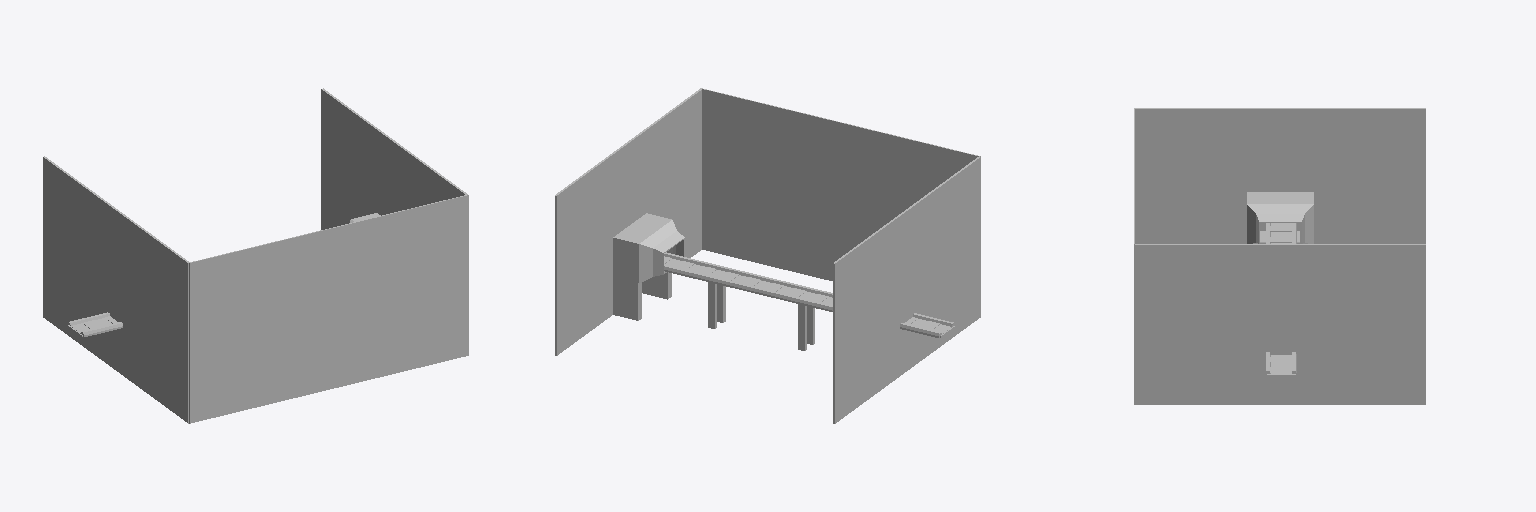
Rendered from conveyorRoom.obj.
3 renders of one model, left to right at view 1: azimuth 30°, elevation 25°; view 2: azimuth 150°, elevation 25°; view 3: azimuth 270°, elevation 25°, orthographic.
Parts seen in each view (by area): view 1: pCube12, pCube10, pCube7; view 2: pCube12, pCube10, pCube7, pCube9, updatedBelt, polySurface9, polySurface8; view 3: pCube7, pCube10, pCube11, updatedBelt.
Boxes of the visible parts, <box> form: pCube12: <box>189,195,468,423</box>; pCube10: <box>43,156,188,423</box>; pCube7: <box>321,88,467,229</box>; pCube12: <box>700,88,980,280</box>; pCube10: <box>833,157,980,423</box>; pCube7: <box>555,89,701,355</box>; pCube9: <box>613,213,684,320</box>; updatedBelt: <box>664,256,954,337</box>; polySurface9: <box>664,265,941,335</box>; polySurface8: <box>664,252,954,326</box>; pCube7: <box>1135,244,1425,404</box>; pCube10: <box>1135,108,1425,243</box>; pCube11: <box>1247,192,1313,243</box>; updatedBelt: <box>1266,223,1296,376</box>.
Bounding box in the file's own units: 521 × 222 × 365.